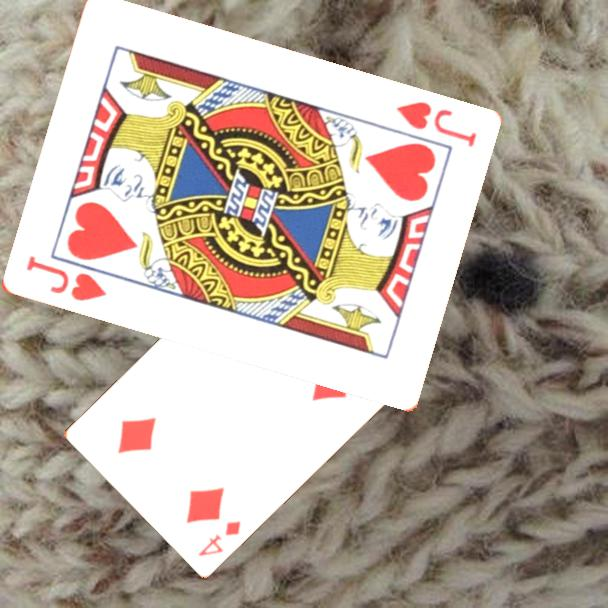d04: (194, 516, 244, 559)
h11: (22, 252, 109, 305), (392, 98, 479, 151)
